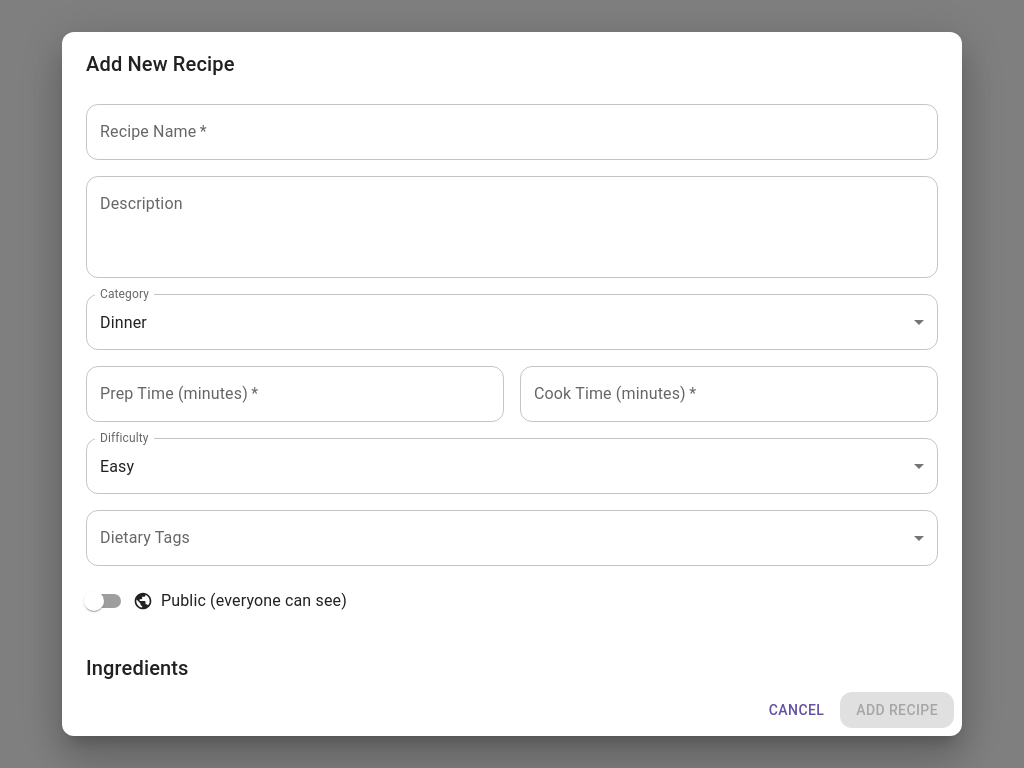
Test: AddRecipeModal › Form Input Handling › updates category selection
Click on the MUI Select showing "Dinner" (default value)
Click the dropdown "Dinner" at (123, 322), box [100,312,147,332]
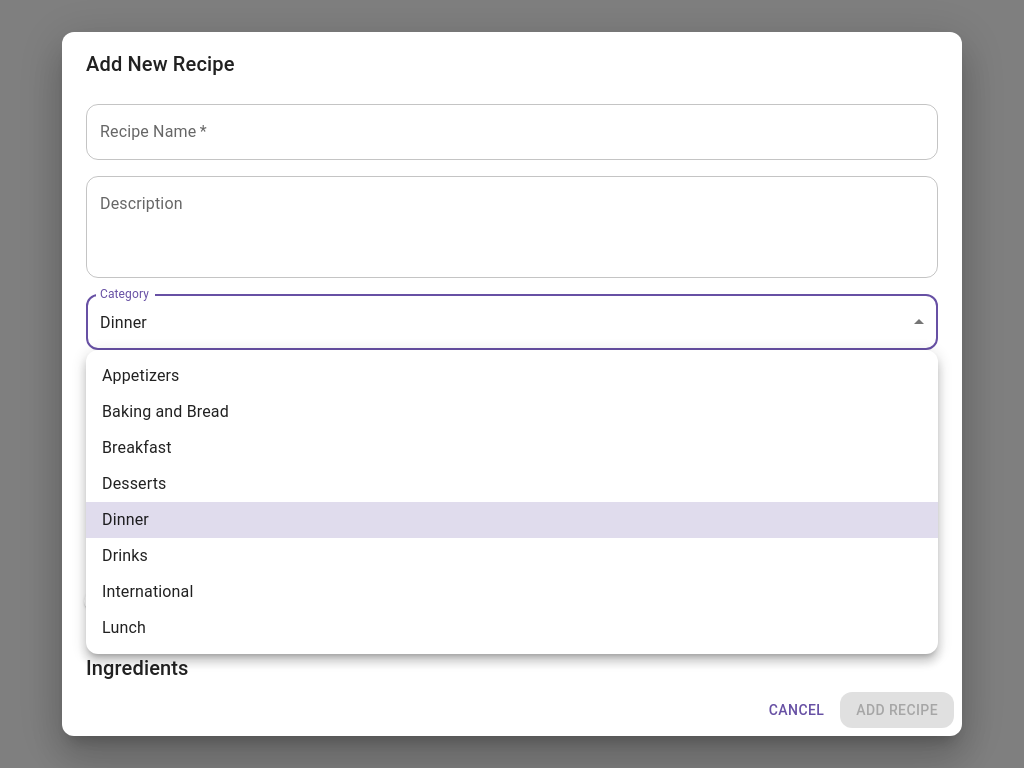
Click the option "Desserts" at (134, 484), box [102,474,166,493]
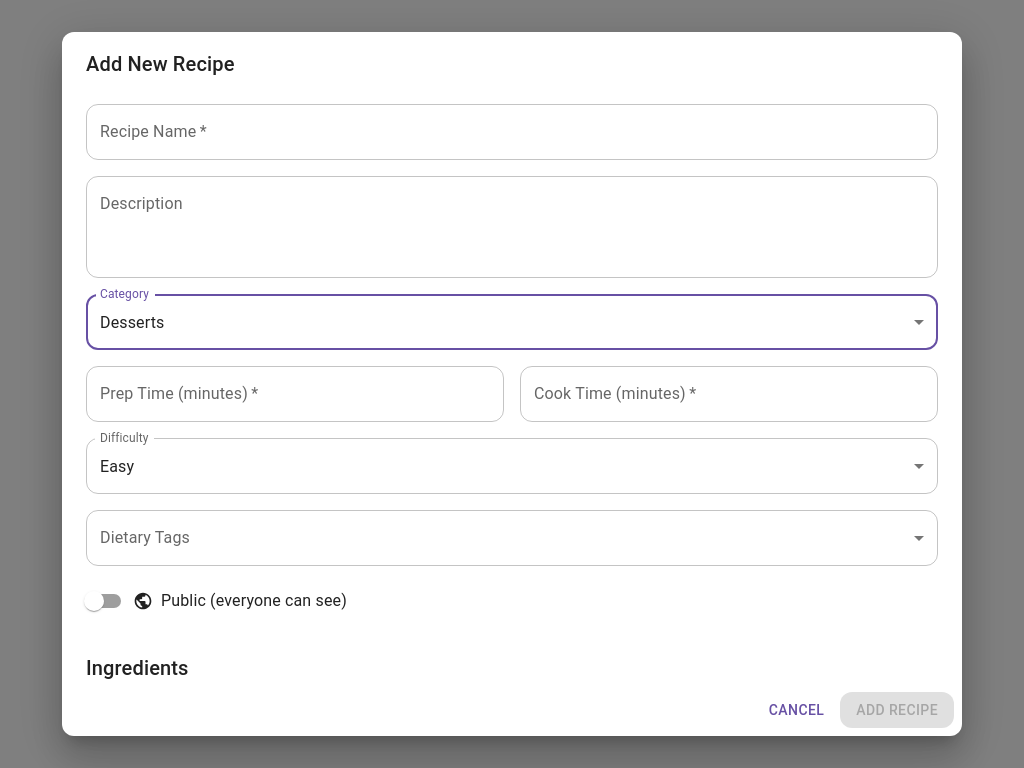
Check: the dropdown "Desserts" is shown, box [100,312,164,332]
